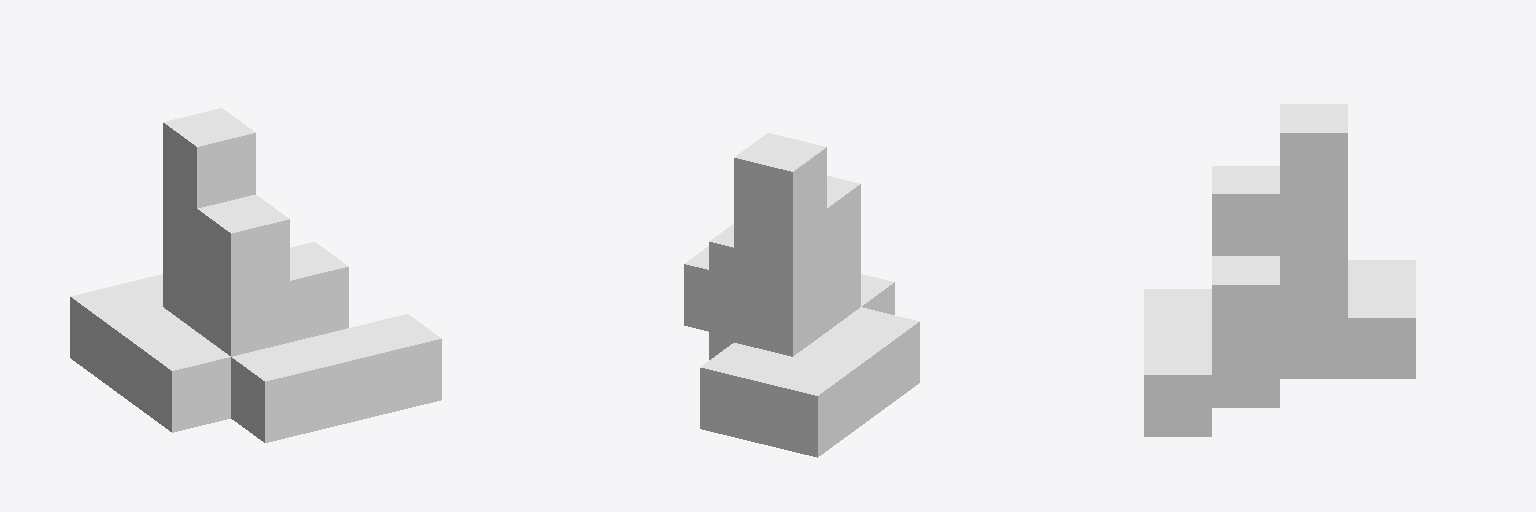
The model's file is des_rock6.obj.
3 renders of one model, left to right at view 1: azimuth 30°, elevation 25°; view 2: azimuth 150°, elevation 25°; view 3: azimuth 270°, elevation 25°, orthographic.
Visible parts, largest first — view 1: object 1; view 2: object 1; view 3: object 1.
Boxes of the visible parts, x1=… form: object 1: x1=70, y1=108, x2=441, y2=442; object 1: x1=684, y1=133, x2=919, y2=457; object 1: x1=1144, y1=104, x2=1415, y2=436.
Size of the model in its own units: 0.4 by 0.4 by 0.4.